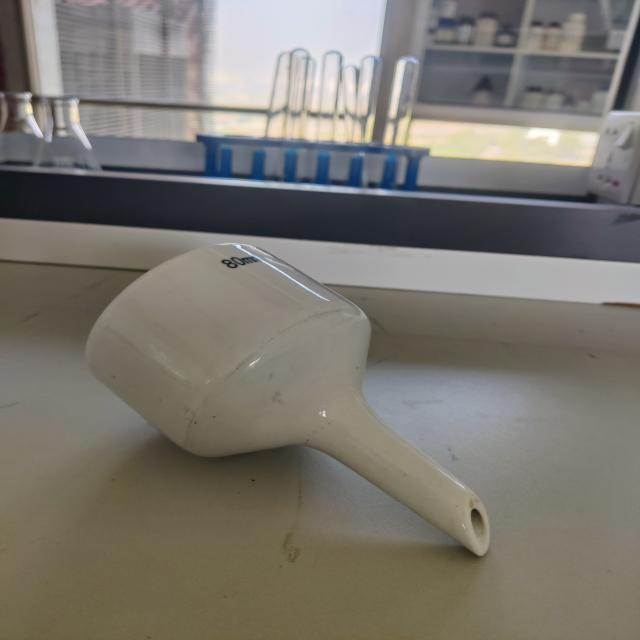Buchner_Funnel: (52, 210, 536, 591)
